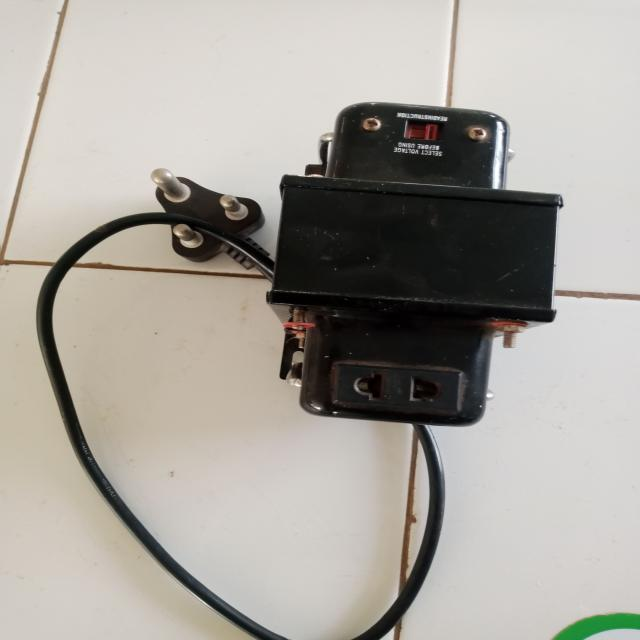Stepdown Transformer: (246, 92, 578, 445)
